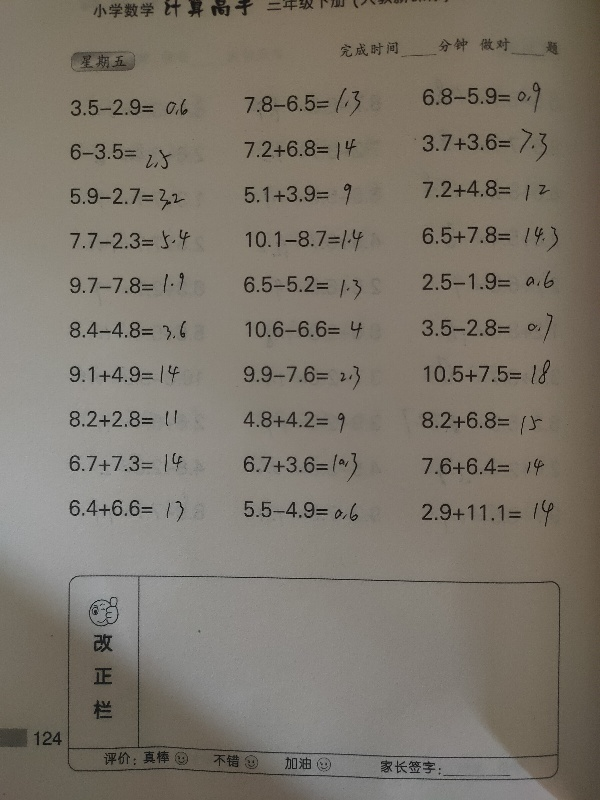equation: (416, 397, 576, 446), (414, 302, 570, 350), (228, 83, 390, 128), (241, 263, 375, 313), (232, 353, 380, 397), (62, 393, 205, 438), (56, 491, 196, 536), (231, 493, 377, 536), (420, 171, 562, 215), (419, 124, 561, 167), (406, 497, 567, 534), (413, 448, 557, 489), (67, 311, 201, 355), (65, 133, 191, 179), (65, 225, 203, 265), (236, 448, 382, 484), (423, 220, 563, 257), (65, 269, 197, 308), (65, 182, 200, 220), (62, 88, 201, 124), (238, 223, 369, 261), (416, 81, 560, 115), (233, 180, 366, 214), (231, 136, 368, 168), (231, 403, 363, 436), (238, 318, 379, 348), (416, 363, 564, 390), (414, 265, 565, 290), (69, 363, 197, 392), (57, 451, 196, 477)
